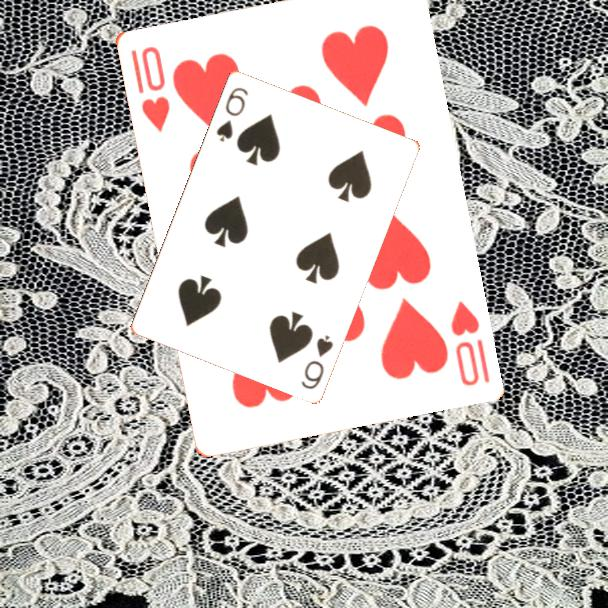h10: (127, 42, 173, 135), (446, 297, 492, 389)
s06: (212, 83, 251, 145), (297, 331, 336, 392)
